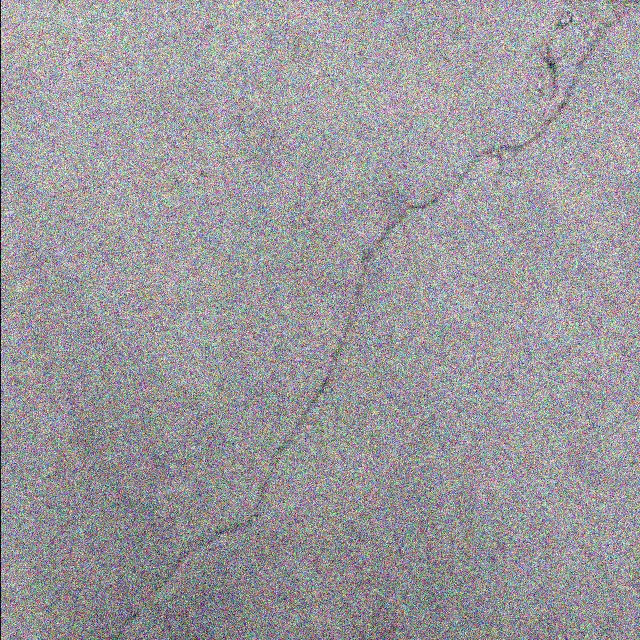SurfaceCrack: (90, 0, 640, 640)
